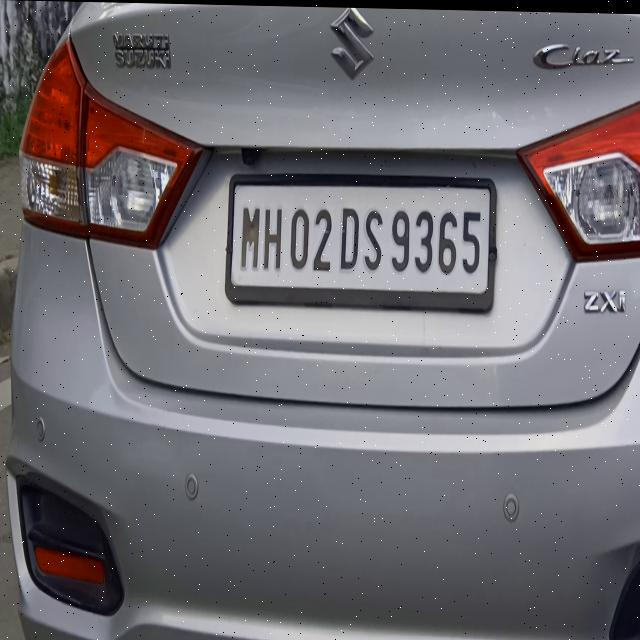plate: (224, 168, 496, 314)
